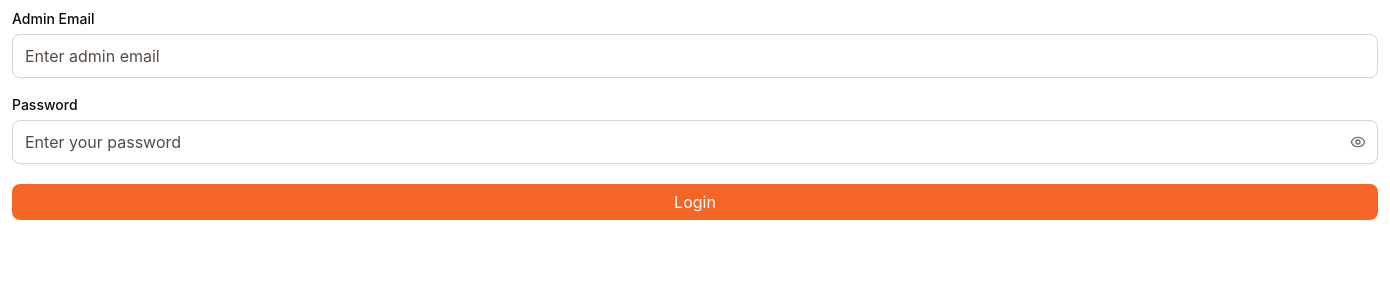
Test: AdminLoginForm › shows validation errors when submitted empty
Click the button "Login" at (695, 202), box x1=12 y1=184 x2=1378 y2=220
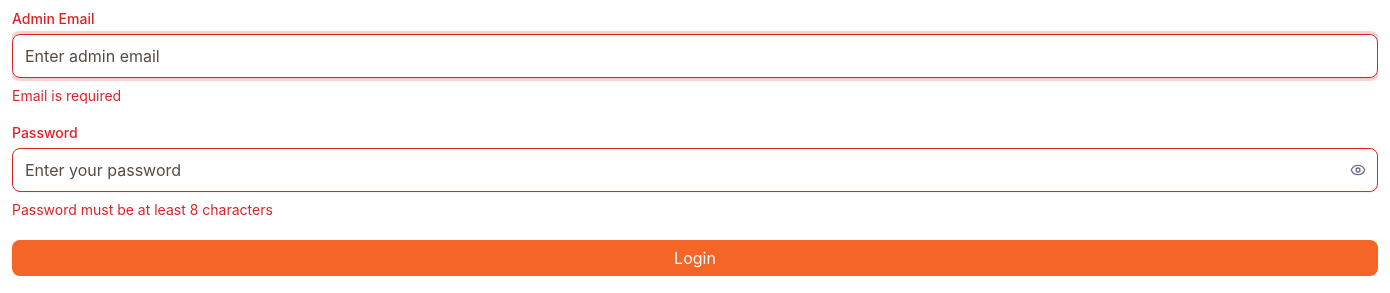
Expected: the text "Email is required" is shown, x1=12 y1=87 x2=121 y2=104
Expected: the text "Password must be at least 8 characters" is shown, x1=12 y1=201 x2=273 y2=218
